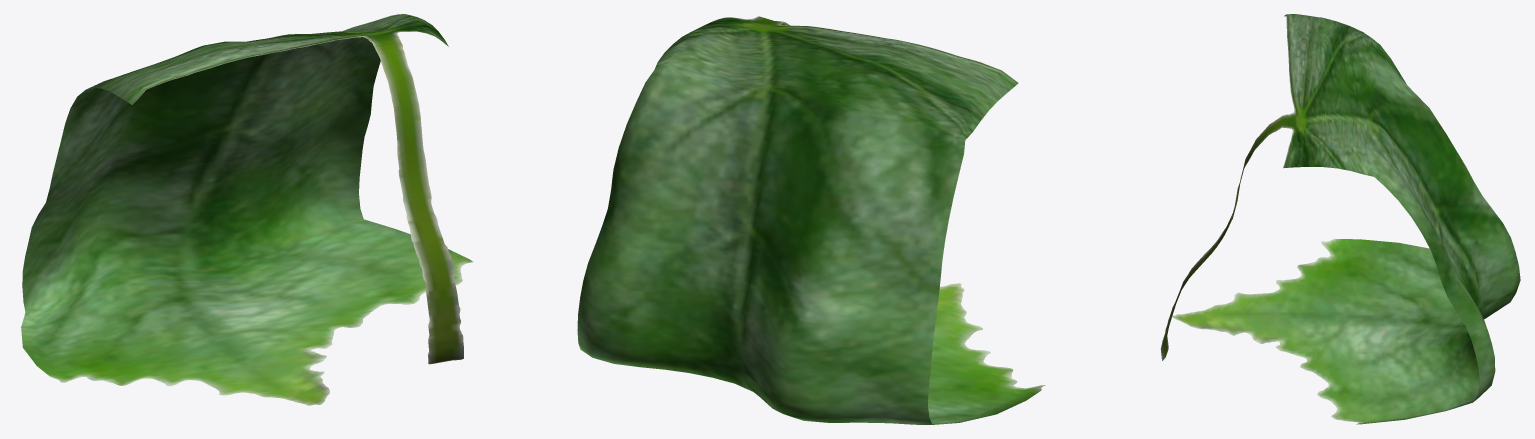
The model's file is FarmableStone.fbx.
3 views of the same model, side by side, from view 1: azimuth 30°, elevation 25°; view 2: azimuth 150°, elevation 25°; view 3: azimuth 270°, elevation 25° (orthographic). The views are drawn at different scales.
Parts seen in each view (by area): view 1: pCube1; view 2: pCube1; view 3: pCube1.
Part boxes in pixels (x1,y1,x2,y2): pCube1: (21, 14, 473, 405); pCube1: (577, 16, 1045, 424); pCube1: (1160, 14, 1520, 424).
Size of the model in its own units: 508 by 326 by 441.
